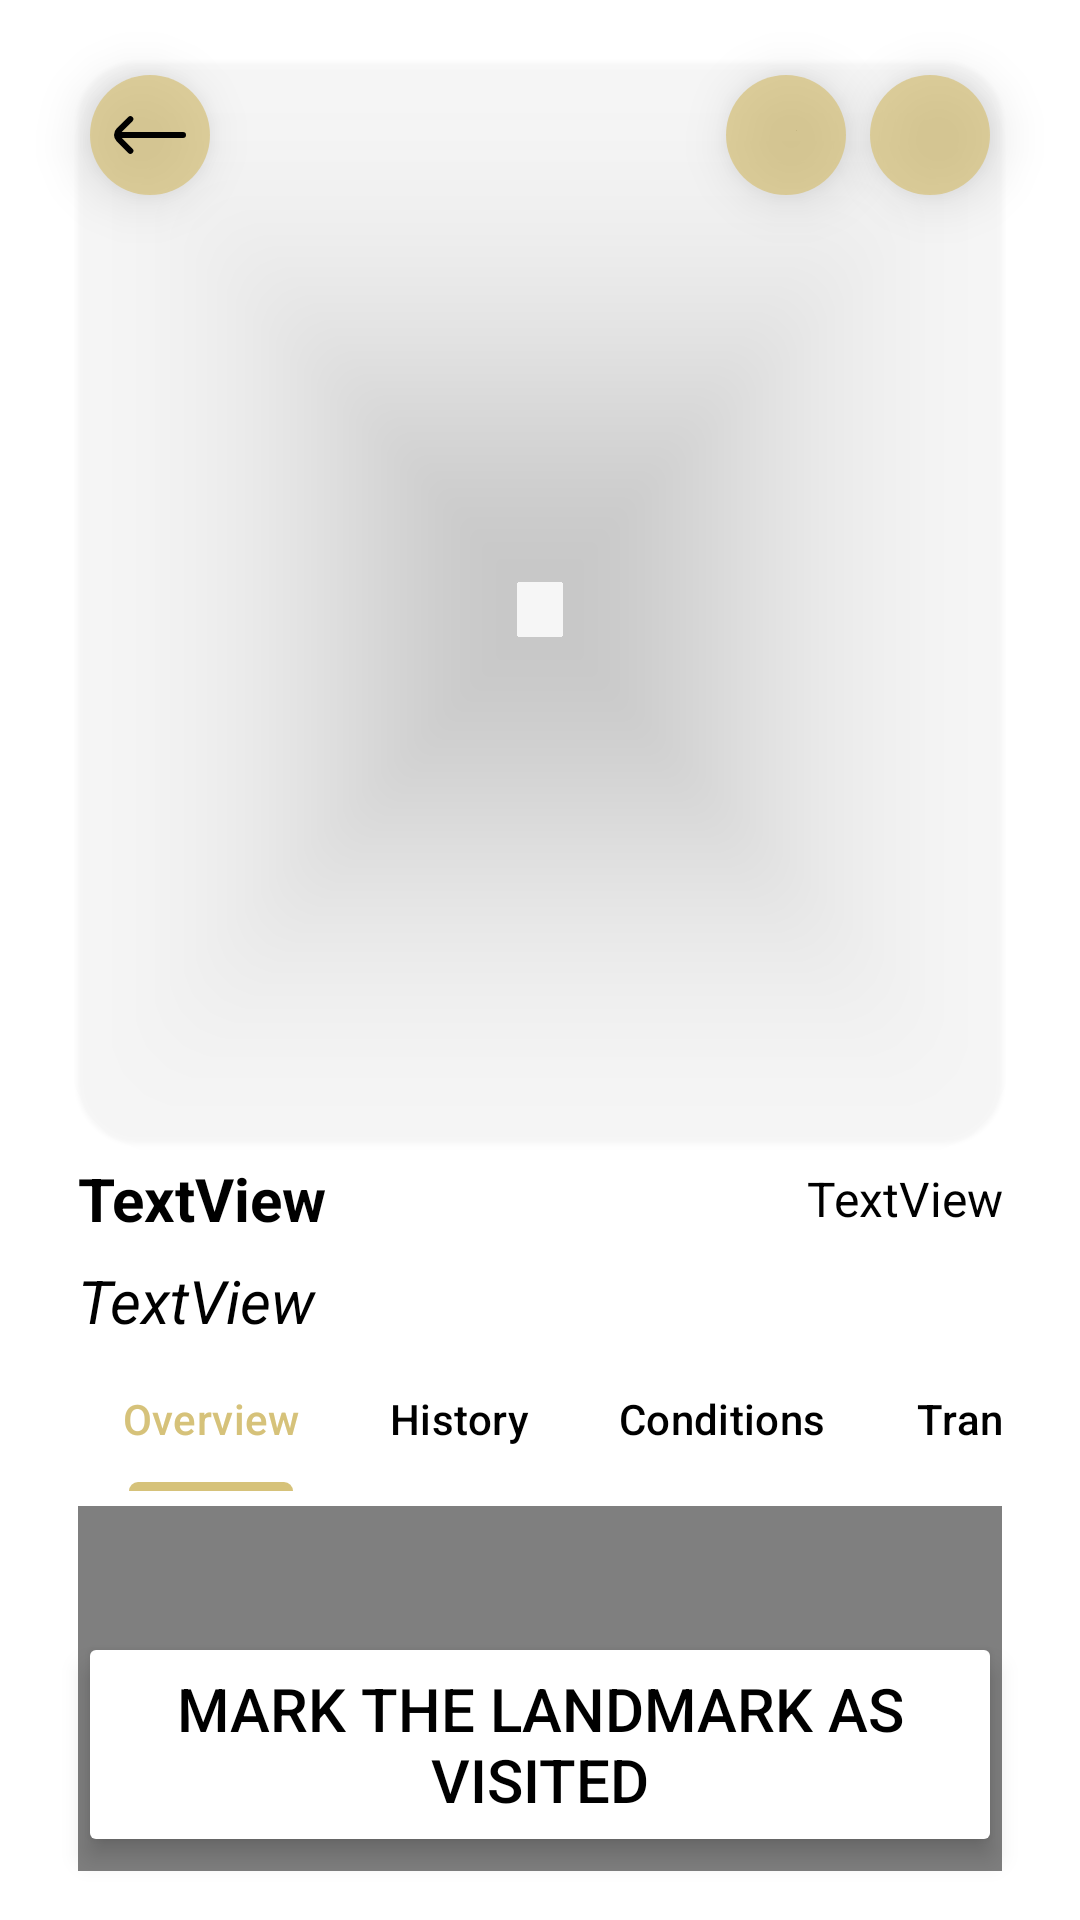

Screen size 1080x1920. Icon name, then its center in pixels as [x,y]:
left arrow: [150,135]
